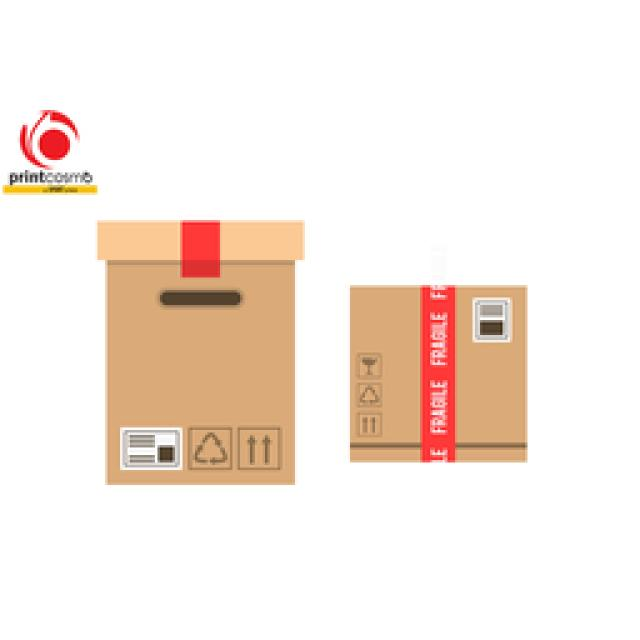cardboard: (98, 220, 302, 482), (350, 285, 452, 460), (460, 285, 525, 460)
